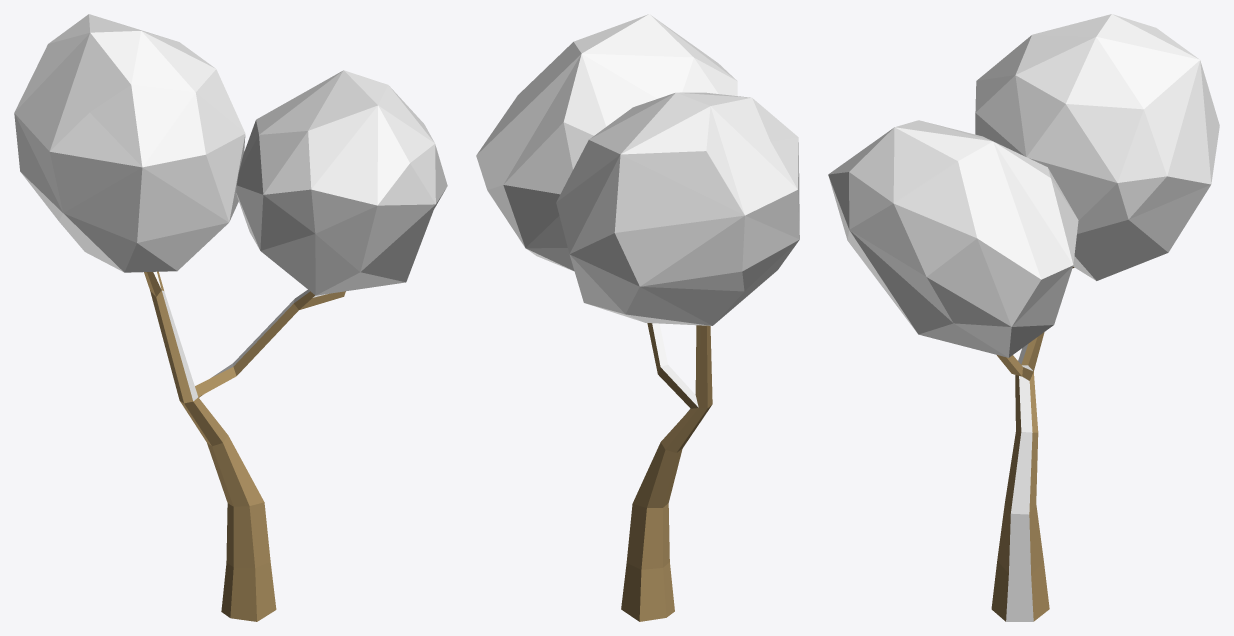
File: Oak_Tree_m_Snow_06_LOD.fbx
3 renders of one model, left to right at view 1: azimuth 30°, elevation 25°; view 2: azimuth 150°, elevation 25°; view 3: azimuth 270°, elevation 25°, orthographic. The views are drawn at different scales.
Visible parts, largest first — view 1: Oak_Tree_m_Snow_06_LOD0; view 2: Oak_Tree_m_Snow_06_LOD0; view 3: Oak_Tree_m_Snow_06_LOD0.
Part boxes in pixels (left/top/right/bottom): Oak_Tree_m_Snow_06_LOD0: left=14, top=14, right=447, bottom=621; Oak_Tree_m_Snow_06_LOD0: left=476, top=14, right=799, bottom=621; Oak_Tree_m_Snow_06_LOD0: left=828, top=14, right=1219, bottom=621.
Size of what is drawn, in the model's own units: 499 by 795 by 516.
